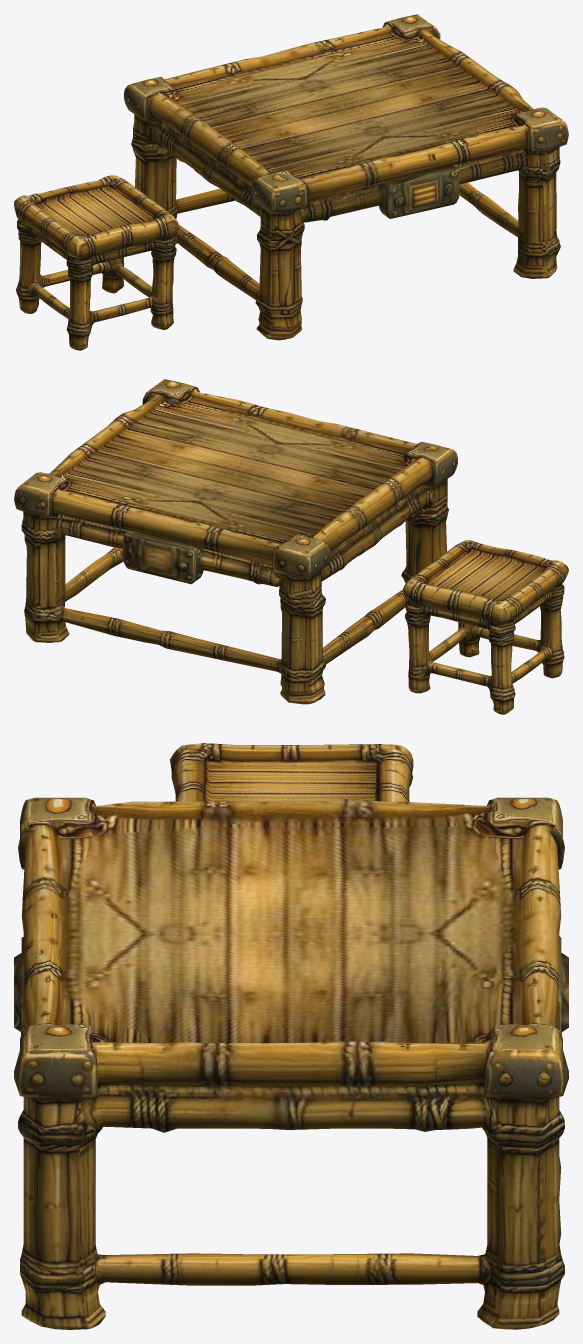
Rendered from Tavern_Emerald_Bamboo_Table.glb.
The picture shows the model from 3 angles, top to bottom: view 1: azimuth 30°, elevation 25°; view 2: azimuth 150°, elevation 25°; view 3: azimuth 270°, elevation 25°; orthographic projection. The views are drawn at different scales.
Bounding box in the file's own units: 1.91 × 0.6654 × 1.12.
1 material, 1 textured.
